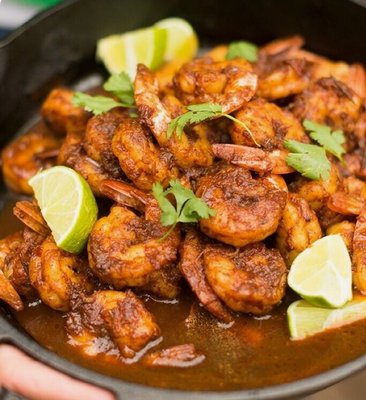pizza: (0, 342, 119, 400)
